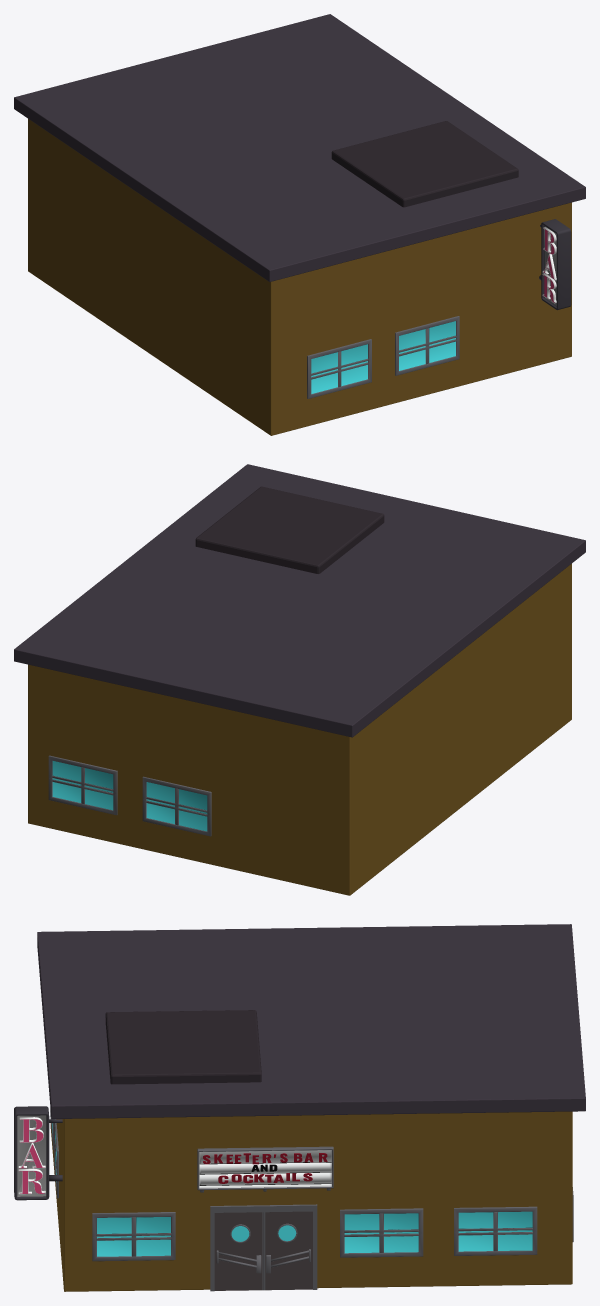
File: skeetersbar_compressed.glb
The picture shows the model from 3 angles, top to bottom: view 1: azimuth 30°, elevation 25°; view 2: azimuth 150°, elevation 25°; view 3: azimuth 270°, elevation 25°; orthographic projection. The views are drawn at different scales.
Parts seen in each view (by area): view 1: Cube.528, Cube.542, Cylinder.074, Cube.529, Cube.537; view 2: Cube.528, Cube.542, Cylinder.074, Cube.529; view 3: Cube.528, Cube.529, Cube.542, Cylinder.074, Cube.530, Cube.537, Text.032, Text.031.
Boxes of the visible parts, x1,y1,x2,y2 form: Cube.528: (14, 14, 585, 435); Cube.542: (331, 121, 518, 207); Cylinder.074: (311, 321, 455, 393); Cube.529: (307, 227, 556, 398); Cube.537: (539, 219, 571, 310); Cube.528: (14, 464, 585, 895); Cube.542: (195, 486, 384, 573); Cylinder.074: (52, 761, 207, 831); Cube.529: (48, 755, 211, 836); Cube.528: (37, 924, 585, 1291); Cube.529: (18, 1108, 573, 1291); Cube.542: (105, 1010, 261, 1084); Cylinder.074: (52, 1123, 532, 1256); Cube.530: (214, 1211, 312, 1290); Cube.537: (14, 1106, 62, 1200); Text.032: (203, 1153, 327, 1183); Text.031: (19, 1119, 44, 1193).
Size of the model in its own units: 3 by 1.54 by 3.98.
